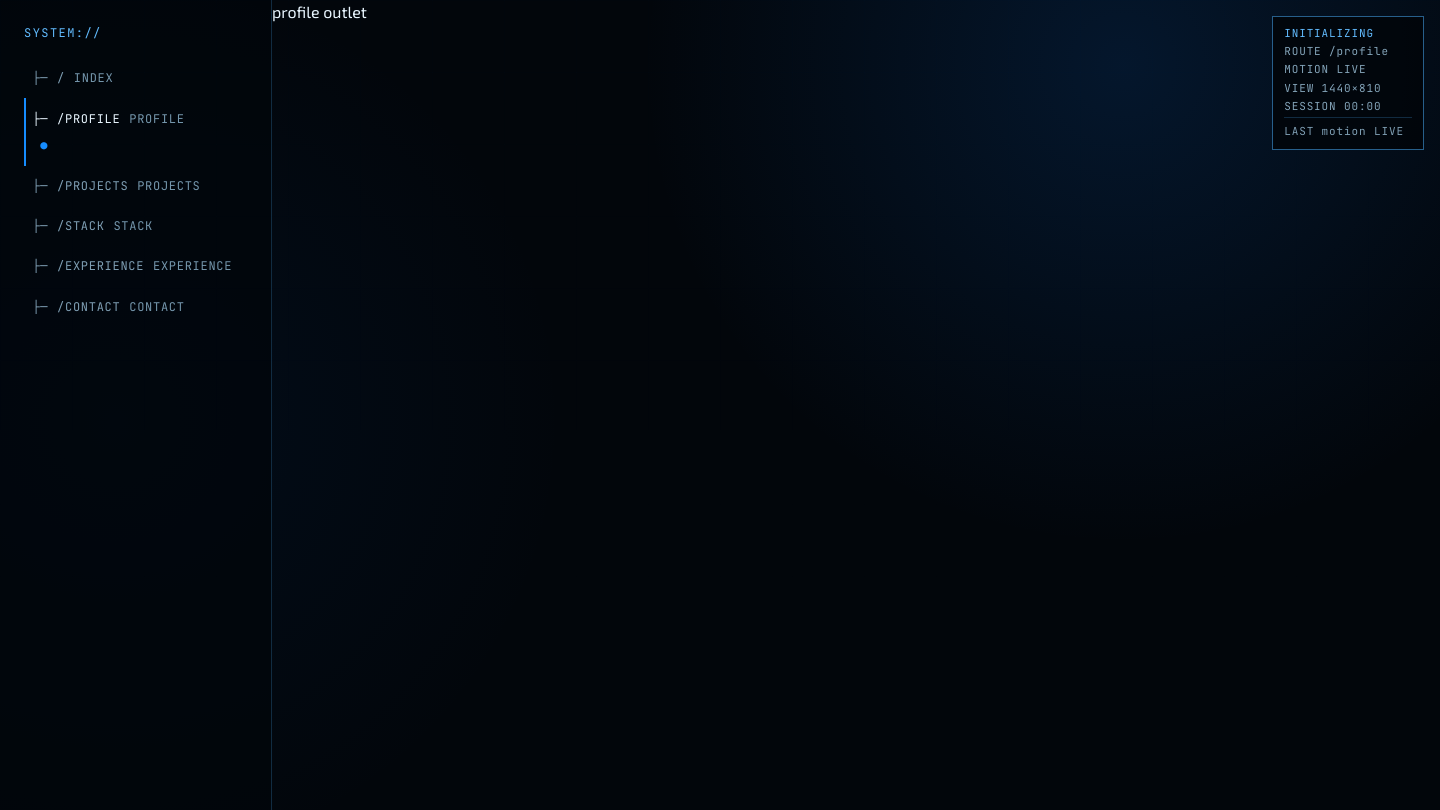
Test: CommandPalette › opens honest diagnostics without fake hardware metrics
The image size is (1440, 810).
Press k
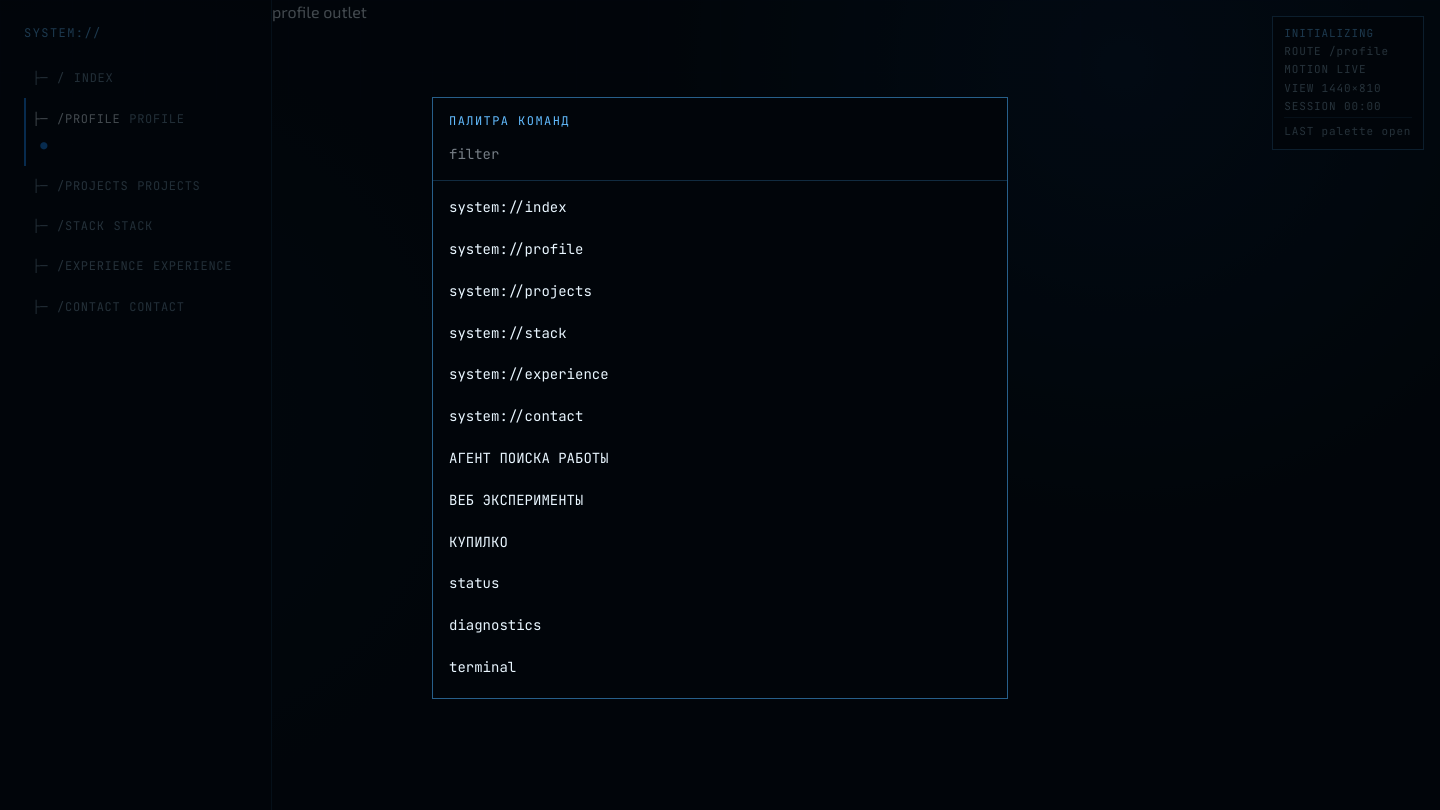
Type "diagnostics" into the search field at (720, 155), box [433,130,1007,181]
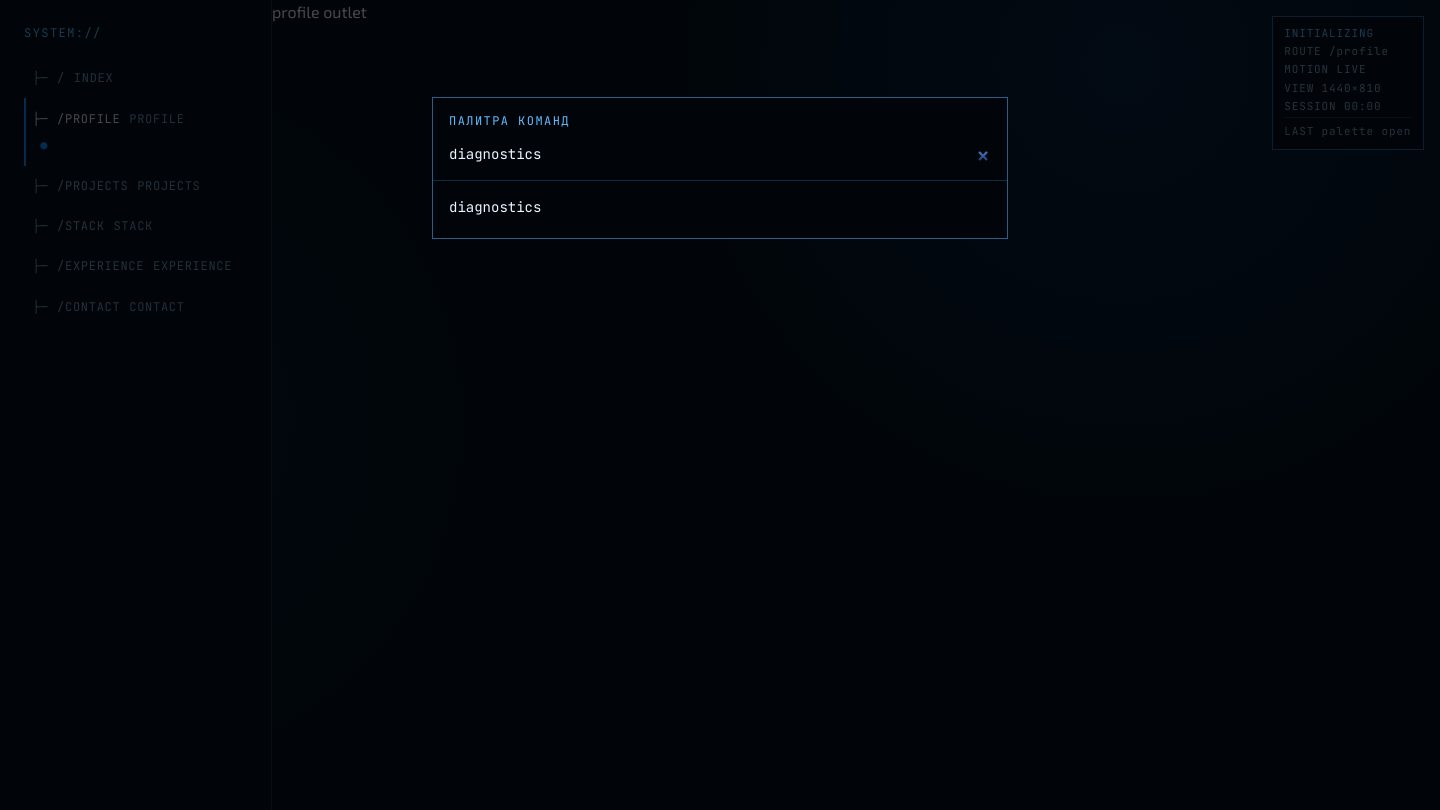
Click the button "diagnostics" at (495, 207), box [433,187,1007,229]
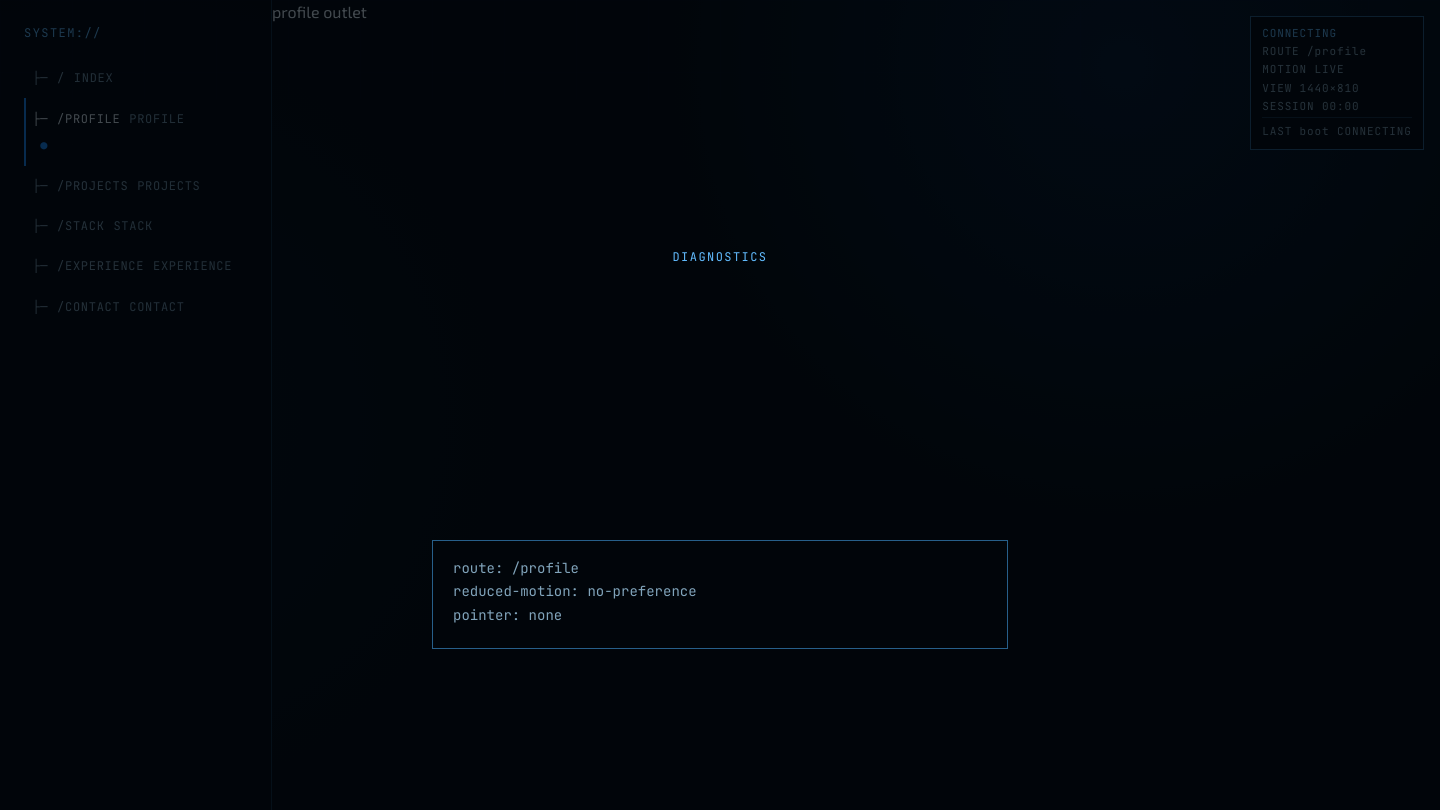
Result: the dialog named "Диагностика" shows "/profile" at [453,559,697,624]
Result: the dialog named "Диагностика" shows "reduced-motion" at [453,559,697,624]
Result: the dialog named "Диагностика" shows "pointer" at [453,559,697,624]
